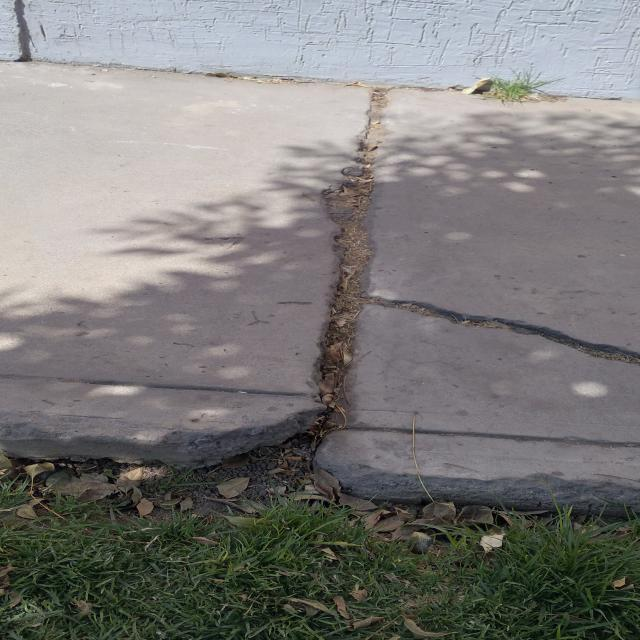hole: (290, 79, 390, 478)
